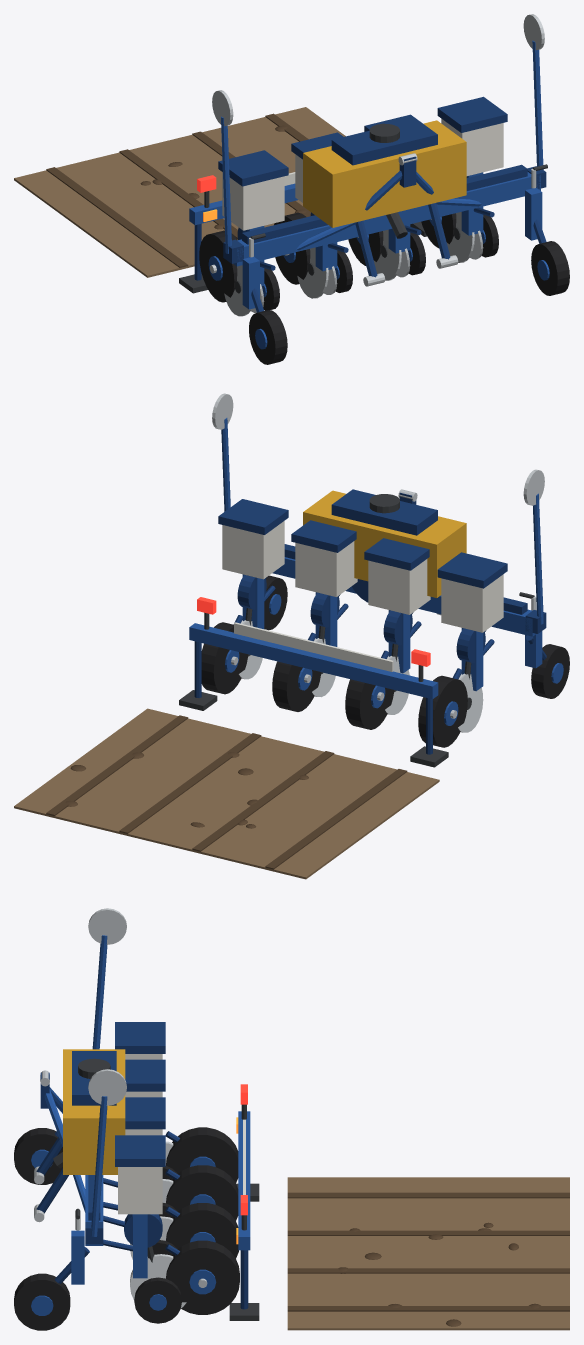
Rendered from precision_planter.glb.
3 views of the same model, one above another, from view 1: azimuth 30°, elevation 25°; view 2: azimuth 150°, elevation 25°; view 3: azimuth 270°, elevation 25° (orthographic). The views are drawn at different scales.
Visible parts, largest first — view 1: PlanterBody, PlanterProps, PressWheelA, PressWheelB, PressWheelD, PressWheelC; view 2: PlanterBody, PlanterProps, PressWheelA, PressWheelD, PressWheelB, PressWheelC; view 3: PlanterProps, PlanterBody, PressWheelD, PressWheelA, PressWheelB, PressWheelC.
Boxes of the visible parts, x1=… form: PlanterBody: x1=179, y1=14, x2=569, y2=364; PlanterProps: x1=14, y1=107, x2=345, y2=277; PressWheelA: x1=199, y1=230, x2=237, y2=302; PressWheelB: x1=274, y1=212, x2=310, y2=284; PressWheelD: x1=421, y1=213, x2=456, y2=248; PressWheelC: x1=348, y1=231, x2=383, y2=265; PlanterBody: x1=179, y1=393, x2=569, y2=767; PlanterProps: x1=14, y1=708, x2=439, y2=879; PressWheelA: x1=418, y1=675, x2=467, y2=747; PressWheelD: x1=201, y1=622, x2=248, y2=694; PressWheelB: x1=345, y1=679, x2=394, y2=729; PressWheelC: x1=272, y1=661, x2=321, y2=711; PlanterProps: x1=287, y1=1177, x2=569, y2=1330; PlanterBody: x1=14, y1=908, x2=259, y2=1330; PressWheelD: x1=166, y1=1240, x2=239, y2=1314; PressWheelA: x1=166, y1=1127, x2=238, y2=1182; PressWheelB: x1=166, y1=1165, x2=238, y2=1220; PressWheelC: x1=166, y1=1203, x2=238, y2=1258.
Size of the model in its own units: 2.61 by 1.97 by 3.74.
